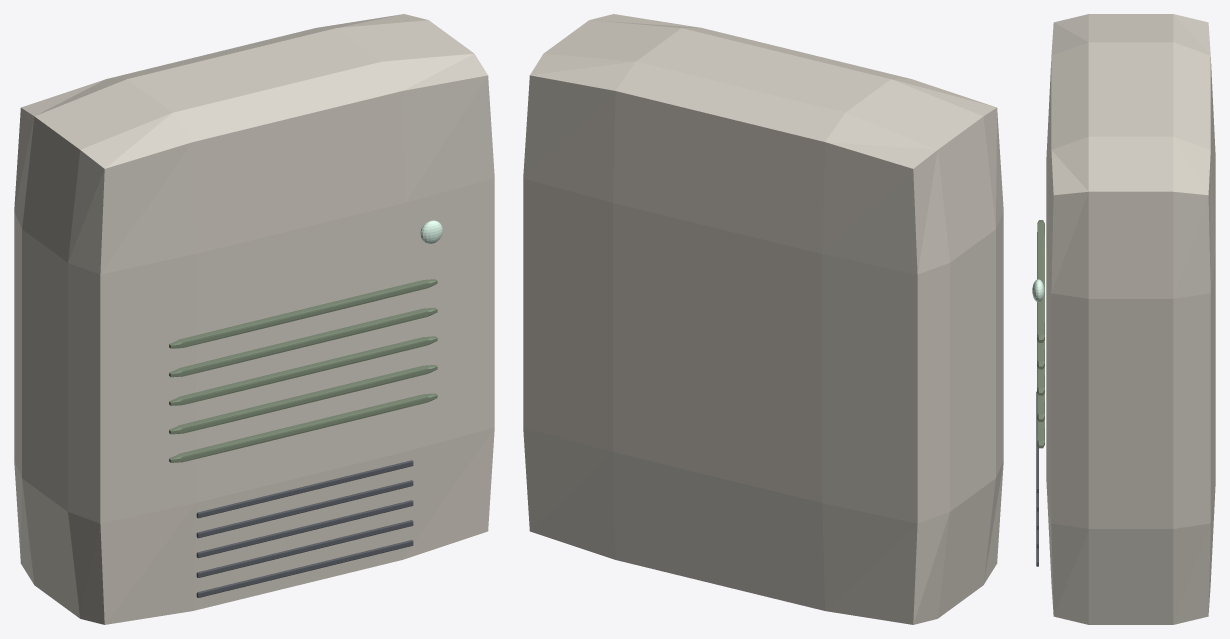
Rendered from hiperreal.glb.
3 renders of one model, left to right at view 1: azimuth 30°, elevation 25°; view 2: azimuth 150°, elevation 25°; view 3: azimuth 270°, elevation 25°, orthographic. The views are drawn at different scales.
Visible parts, largest first — view 1: Native component 0, Native component 2, Hiperreal rejilla 1, Hiperreal rejilla 2, Hiperreal rejilla 0, Hiperreal rejilla 4, Hiperreal rejilla 3; view 2: Native component 0; view 3: Native component 0, Native component 2.
Part boxes in pixels (x1,y1,x2,y2): Native component 0: (14, 14, 494, 624); Native component 2: (169, 279, 437, 462); Hiperreal rejilla 1: (196, 480, 413, 538); Hiperreal rejilla 2: (196, 500, 413, 558); Hiperreal rejilla 0: (196, 460, 413, 518); Hiperreal rejilla 4: (196, 540, 413, 597); Hiperreal rejilla 3: (196, 520, 413, 577); Native component 0: (523, 14, 1003, 624); Native component 0: (1046, 14, 1215, 624); Native component 2: (1037, 220, 1044, 448).
Size of the model in its own units: 0.66 by 0.75 by 0.271.
